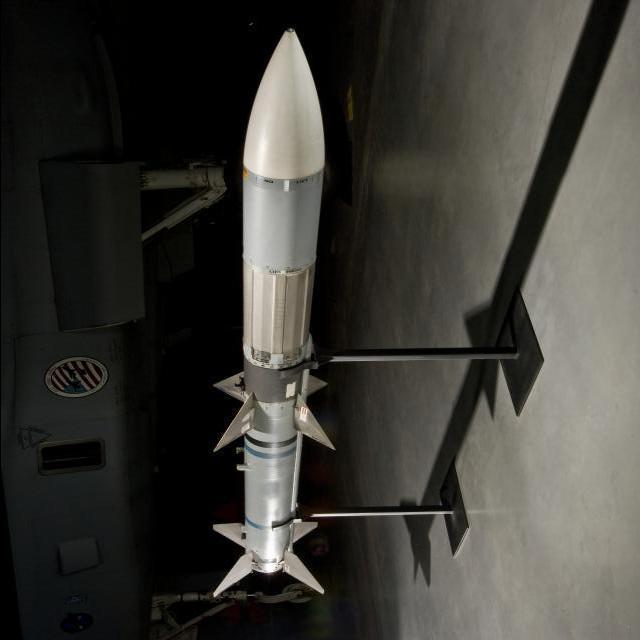missile: (220, 29, 336, 600)
